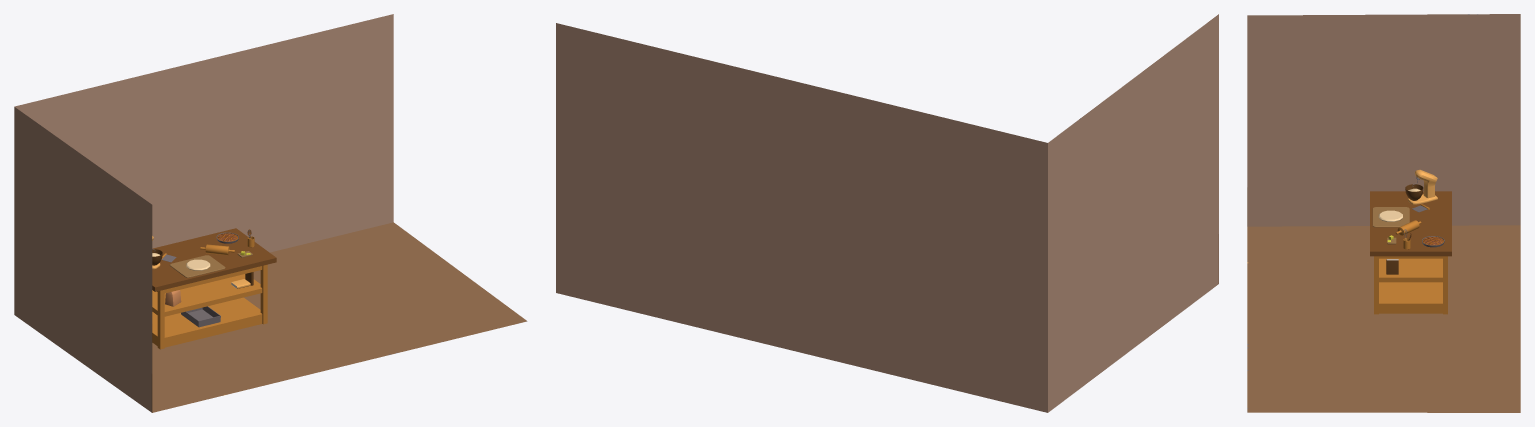
File: DemoScene.fbx
3 views of the same model, side by side, from view 1: azimuth 30°, elevation 25°; view 2: azimuth 150°, elevation 25°; view 3: azimuth 270°, elevation 25° (orthographic). The views are drawn at different scales.
Visible parts, largest first — view 1: walls, island, large cutting board, rectangular cake pan.001; view 2: walls; view 3: walls, island, large cutting board, stand mixer up, stand mixer bowlwith dough.
Boxes of the visible parts, left/top/right/bottom form: walls: left=14, top=14, right=527, bottom=412; island: left=152, top=228, right=276, bottom=349; large cutting board: left=169, top=255, right=225, bottom=277; rectangular cake pan.001: left=181, top=306, right=220, bottom=327; walls: left=556, top=14, right=1218, bottom=412; walls: left=1247, top=14, right=1520, bottom=412; island: left=1370, top=191, right=1451, bottom=314; large cutting board: left=1372, top=207, right=1409, bottom=227; stand mixer up: left=1407, top=169, right=1437, bottom=204; stand mixer bowlwith dough: left=1405, top=184, right=1423, bottom=200.
Bounding box in the file's own units: 608 × 319 × 375.
